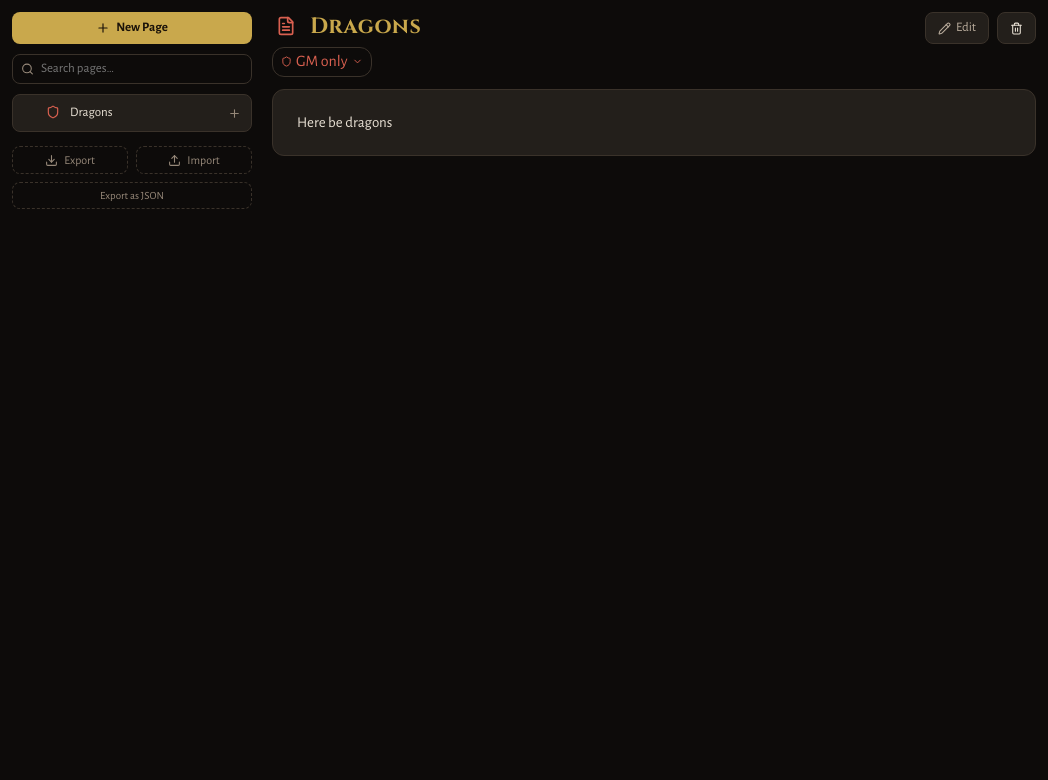
Test case: WikiView markdown formatting toolbar › prefixes the current line for the Bullet list button
This screenshot has width=1048, height=780.
Expected: the text "Here be dragons" is shown, [297,115,392,130]
Click the button "Edit". click: (957, 28)
box: [925,12,989,44]
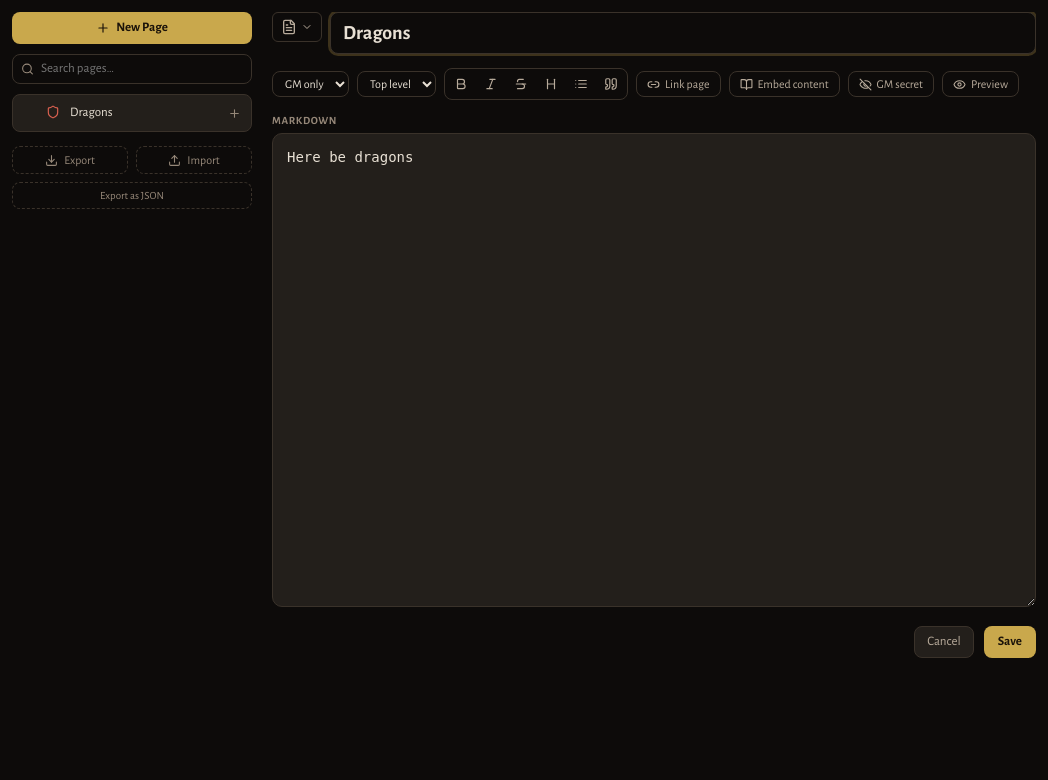
Click the button named "Bullet list". click: (581, 84)
box: [567,71,595,97]
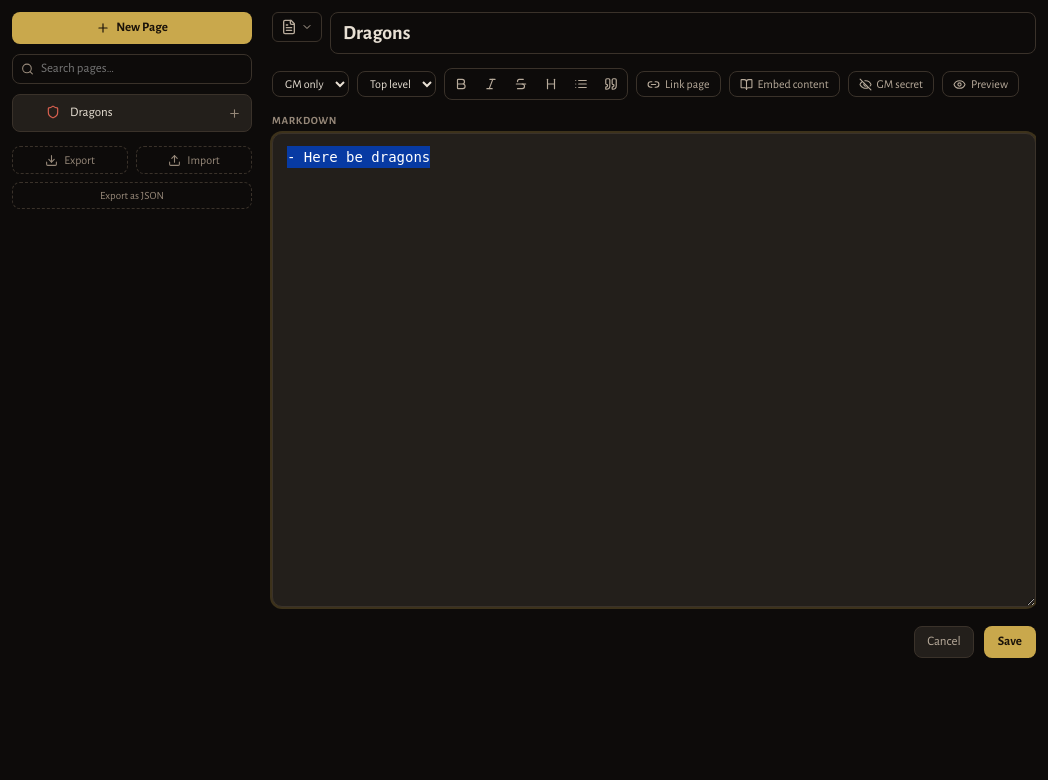
Result: the text box named "Markdown" holds "- Here be dragons" at [272,133,1036,607]
